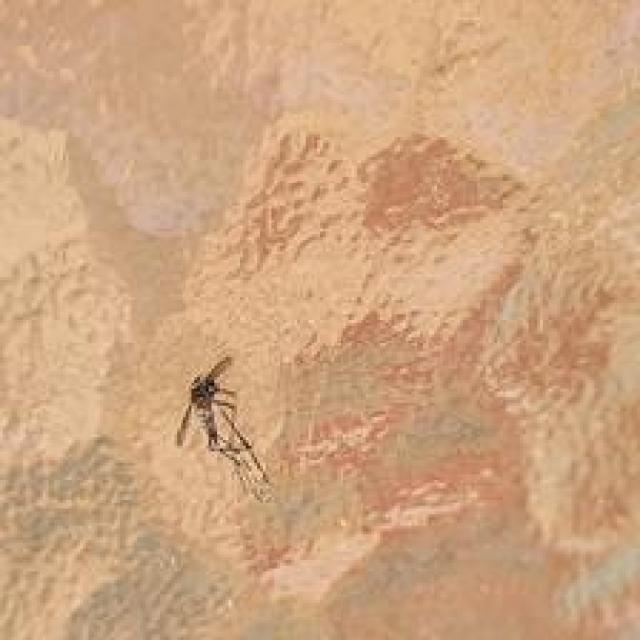Aedes albopictus: (174, 354, 274, 503)
